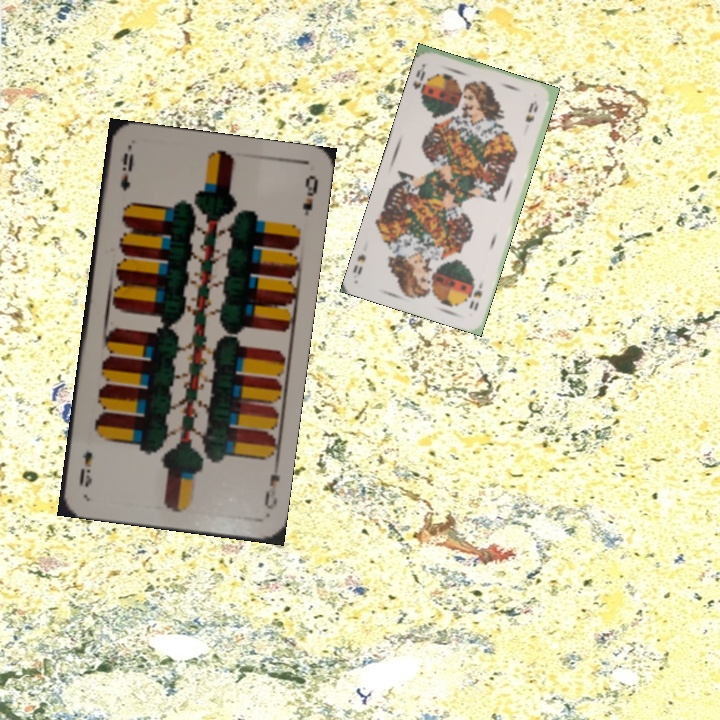E9: (260, 458, 283, 512), (116, 148, 136, 194)
SO: (409, 60, 430, 102), (465, 278, 486, 313)
